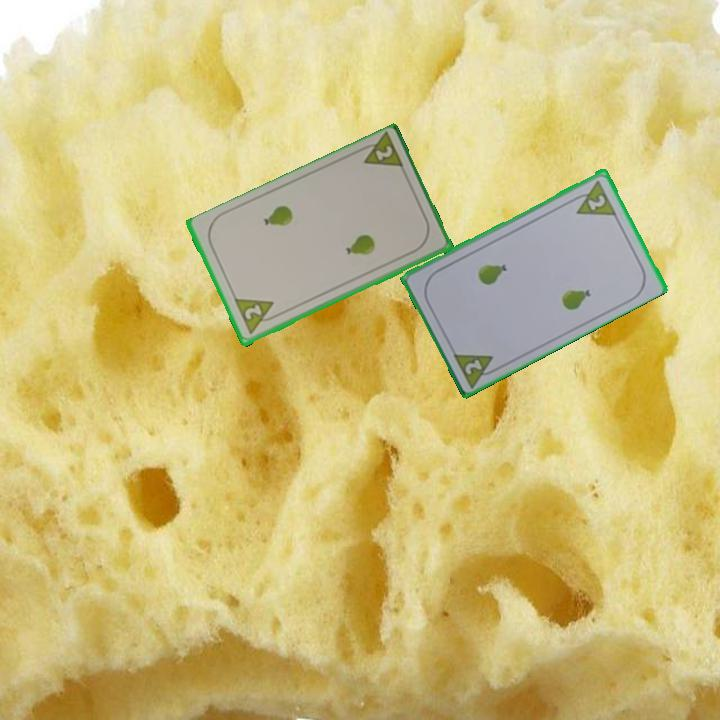2p: (353, 131, 407, 173), (449, 348, 503, 389), (231, 295, 282, 338), (584, 190, 609, 213)
